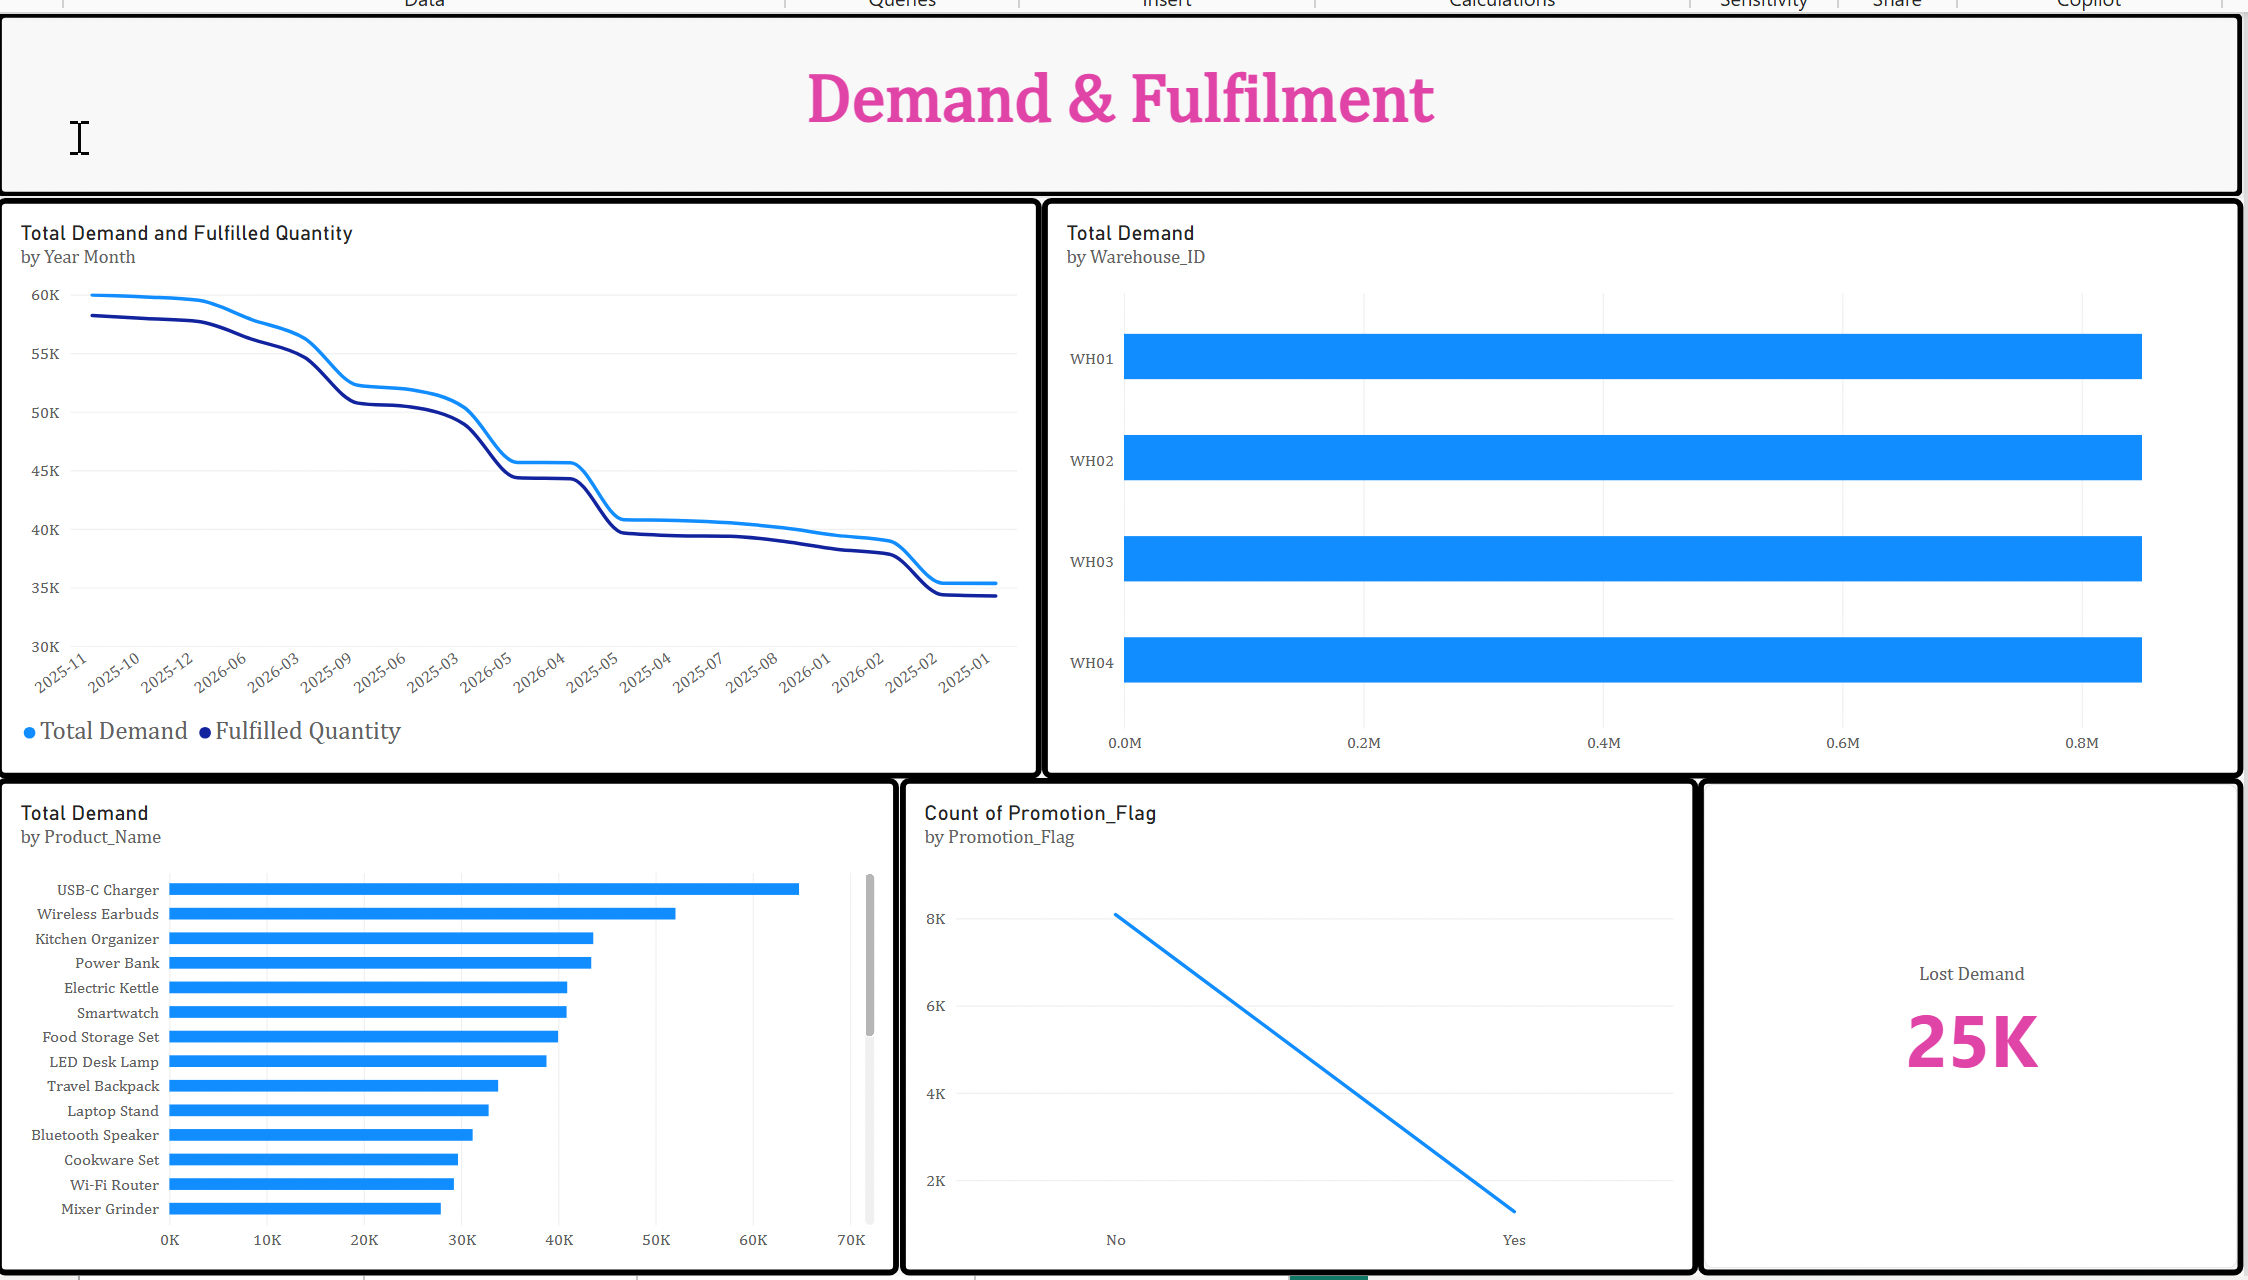

The dashboard page shown, as its layout file describes it:
{"tool":"powerbi","page":{"name":"Demand & Fulfilment","canvas":[1920,1080],"ordinal":3},"visuals":[{"type":"lineChart","fields":{"Category":["DateTable.Year Month"],"Y":["sales_Demand.Total Demand","sales_Demand.Fulfilled Quantity"]},"box":[0,158.5,893.4,496.1],"z":0},{"type":"textbox","box":[0,0,1920,158.5],"z":1},{"type":"barChart","fields":{"Category":["Product_Master.Product_Name"],"Y":["sales_Demand.Total Demand"]},"box":[0,654.5,771.7,424.9],"z":2},{"type":"clusteredBarChart","fields":{"Y":["sales_Demand.Total Demand"],"Category":["inventory_snapshots.Warehouse_ID"]},"box":[893.4,158.5,1026.6,496.1],"z":3},{"type":"lineChart","fields":{"Y":["CountNonNull(sales_Demand.Promotion_Flag)"],"Category":["sales_Demand.Promotion_Flag"]},"box":[771.7,654.5,682.1,424.9],"z":4},{"type":"cardVisual","fields":{"Data":["Product_Master.Lost Demand"]},"box":[1453.8,654.5,466.2,424.9],"z":5}]}

Visuals, with their boxes in screenshot pixels (x1, y1, x2, y2):
lineChart - DateTable.Year Month x sales_Demand.Total Demand: box(12, 201, 1043, 773)
textbox: box(12, 18, 2229, 201)
barChart - Product_Master.Product_Name x sales_Demand.Total Demand: box(12, 773, 903, 1264)
clusteredBarChart - sales_Demand.Total Demand x inventory_snapshots.Warehouse_ID: box(1043, 201, 2229, 773)
lineChart - CountNonNull(sales_Demand.Promotion_Flag) x sales_Demand.Promotion_Flag: box(903, 773, 1690, 1264)
cardVisual - Product_Master.Lost Demand: box(1690, 773, 2229, 1264)
